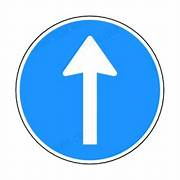forward: (15, 17, 164, 164)
